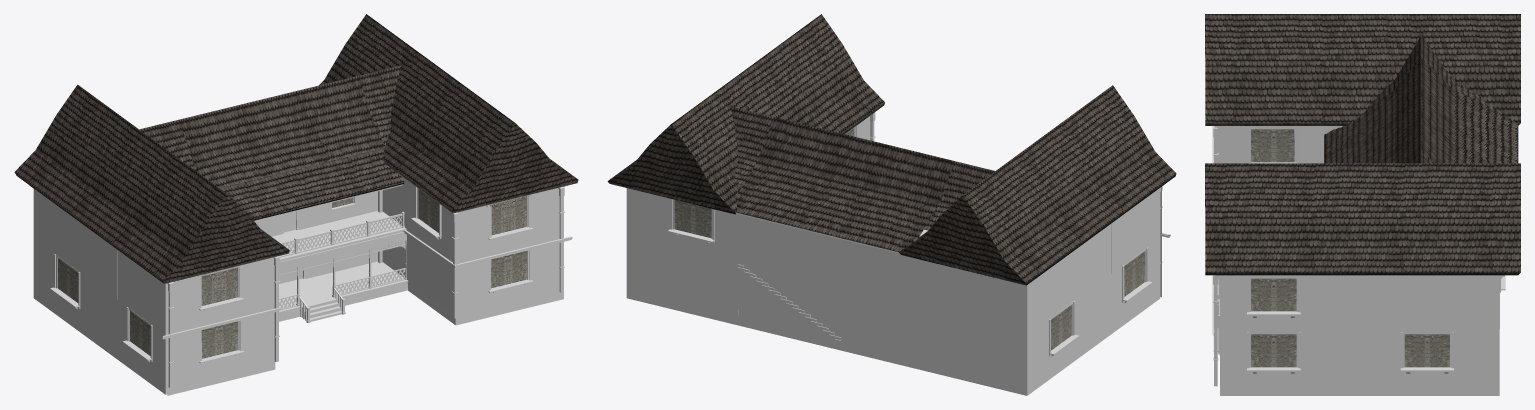
Rendered from Inside_Building.fbx.
The picture shows the model from 3 angles, left to right: view 1: azimuth 30°, elevation 25°; view 2: azimuth 150°, elevation 25°; view 3: azimuth 270°, elevation 25°; orthographic projection. The views are drawn at different scales.
Parts seen in each view (by area): view 1: Roof, OutsidePlanes, Terrace, VillagersWall4, OutsideWoodDecorations3, Window1, CanteenWall4, Window2, MainCharacterWall2, WoodPillars, CanteenWall5, InsideBuilding (+5 smaller); view 2: Roof, HallwayWall4, EntranceWall3, InsideBuilding, VillagersWall3, CanteenWall6, LivingRoomWall2, VillagersWall4, CanteenWall4, MainCharacterWall2, CanteenWall5, Window6 (+2 smaller); view 3: Roof, LeaderRoomWall2, HallwayWall3, LibraryWall3, LivingRoomWall1, InsideBuilding, Window5, Window4, Window3, OutsidePlanes, Window7, WoodPillars.
Part boxes in pixels (x1=…): Roof: x1=14, y1=14, x2=578, y2=284; OutsidePlanes: x1=167, y1=176, x2=563, y2=395; Terrace: x1=272, y1=211, x2=408, y2=323; VillagersWall4: x1=33, y1=189, x2=117, y2=299; OutsideWoodDecorations3: x1=279, y1=212, x2=406, y2=310; Window1: x1=198, y1=195, x2=533, y2=310; CanteenWall4: x1=90, y1=281, x2=165, y2=384; Window2: x1=199, y1=250, x2=533, y2=363; MainCharacterWall2: x1=117, y1=250, x2=165, y2=335; WoodPillars: x1=167, y1=186, x2=564, y2=387; CanteenWall5: x1=33, y1=239, x2=90, y2=329; InsideBuilding: x1=33, y1=249, x2=167, y2=394; Roof: x1=607, y1=14, x2=1176, y2=285; HallwayWall4: x1=626, y1=188, x2=917, y2=309; EntranceWall3: x1=738, y1=266, x2=915, y2=358; InsideBuilding: x1=626, y1=223, x2=1160, y2=395; VillagersWall3: x1=918, y1=259, x2=1027, y2=336; CanteenWall6: x1=918, y1=310, x2=1027, y2=385; LivingRoomWall2: x1=626, y1=239, x2=735, y2=314; VillagersWall4: x1=1027, y1=224, x2=1111, y2=335; CanteenWall4: x1=1085, y1=239, x2=1160, y2=342; MainCharacterWall2: x1=1112, y1=188, x2=1160, y2=273; CanteenWall5: x1=1027, y1=294, x2=1084, y2=385; Window6: x1=668, y1=198, x2=714, y2=243; Roof: x1=1205, y1=14, x2=1520, y2=278; LeaderRoomWall2: x1=1220, y1=278, x2=1378, y2=333; HallwayWall3: x1=1378, y1=278, x2=1499, y2=333; LibraryWall3: x1=1220, y1=333, x2=1378, y2=385; LivingRoomWall1: x1=1378, y1=333, x2=1499, y2=385; InsideBuilding: x1=1220, y1=278, x2=1499, y2=395; Window5: x1=1400, y1=332, x2=1453, y2=373; Window4: x1=1247, y1=332, x2=1300, y2=373; Window3: x1=1247, y1=278, x2=1300, y2=317; OutsidePlanes: x1=1217, y1=129, x2=1333, y2=327; Window7: x1=1247, y1=129, x2=1300, y2=163; WoodPillars: x1=1213, y1=126, x2=1218, y2=386.
Bounding box in the file's own units: 3448 × 1533 × 2144.
